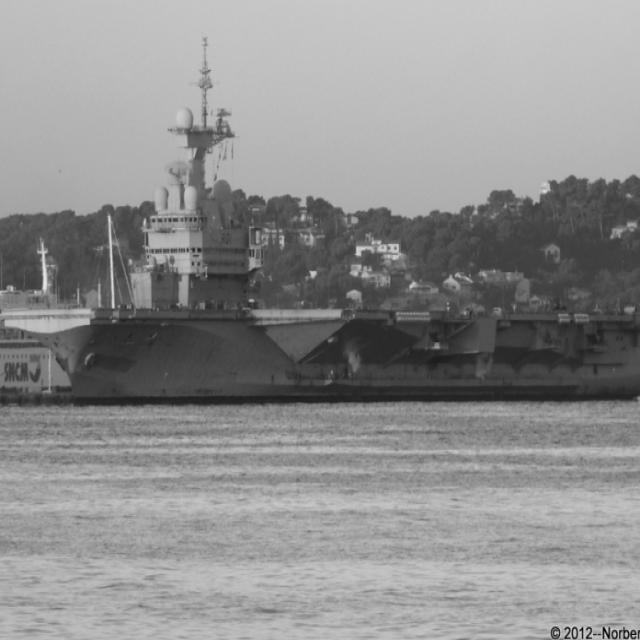Portanaves: (1, 31, 640, 410)
